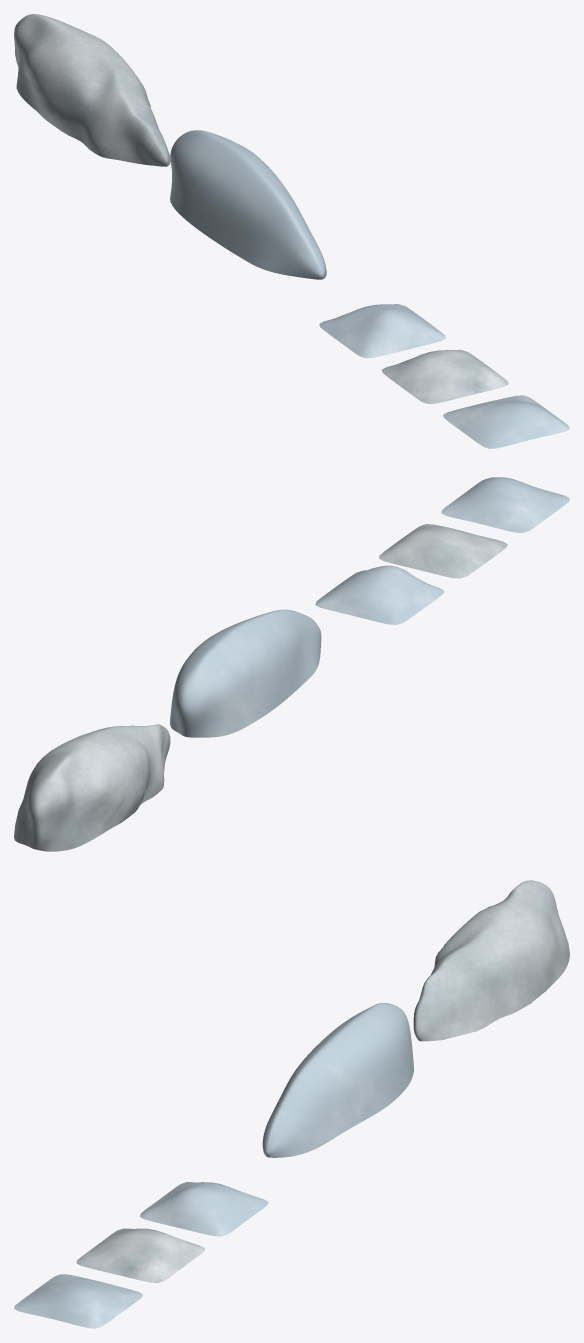
File: Snö_Högar_Trimsheet.fbx
3 renders of one model, top to bottom at view 1: azimuth 30°, elevation 25°; view 2: azimuth 150°, elevation 25°; view 3: azimuth 330°, elevation 25°, orthographic.
Visible parts, largest first — view 1: SnowPile_Low.001, SnowPile_Low, Snow3_Low, Snow2_Low, Snow1_Low; view 2: SnowPile_Low.001, SnowPile_Low, Snow3_Low, Snow1_Low, Snow2_Low; view 3: SnowPile_Low.001, SnowPile_Low, Snow2_Low, Snow3_Low, Snow1_Low.
Boxes of the visible parts, x1=… form: SnowPile_Low.001: x1=14, y1=14, x2=170, y2=166; SnowPile_Low: x1=170, y1=130, x2=326, y2=279; Snow3_Low: x1=319, y1=304, x2=445, y2=358; Snow2_Low: x1=382, y1=349, x2=508, y2=403; Snow1_Low: x1=443, y1=395, x2=569, y2=448; SnowPile_Low.001: x1=14, y1=724, x2=170, y2=851; SnowPile_Low: x1=170, y1=609, x2=321, y2=737; Snow3_Low: x1=315, y1=565, x2=443, y2=624; Snow1_Low: x1=441, y1=477, x2=569, y2=532; Snow2_Low: x1=379, y1=524, x2=507, y2=578; SnowPile_Low.001: x1=413, y1=880, x2=569, y2=1041; SnowPile_Low: x1=262, y1=1003, x2=413, y2=1157; Snow2_Low: x1=76, y1=1228, x2=204, y2=1282; Snow3_Low: x1=140, y1=1182, x2=268, y2=1236; Snow1_Low: x1=14, y1=1274, x2=142, y2=1328.
Bounding box in the file's own units: 208 × 177 × 2013.
